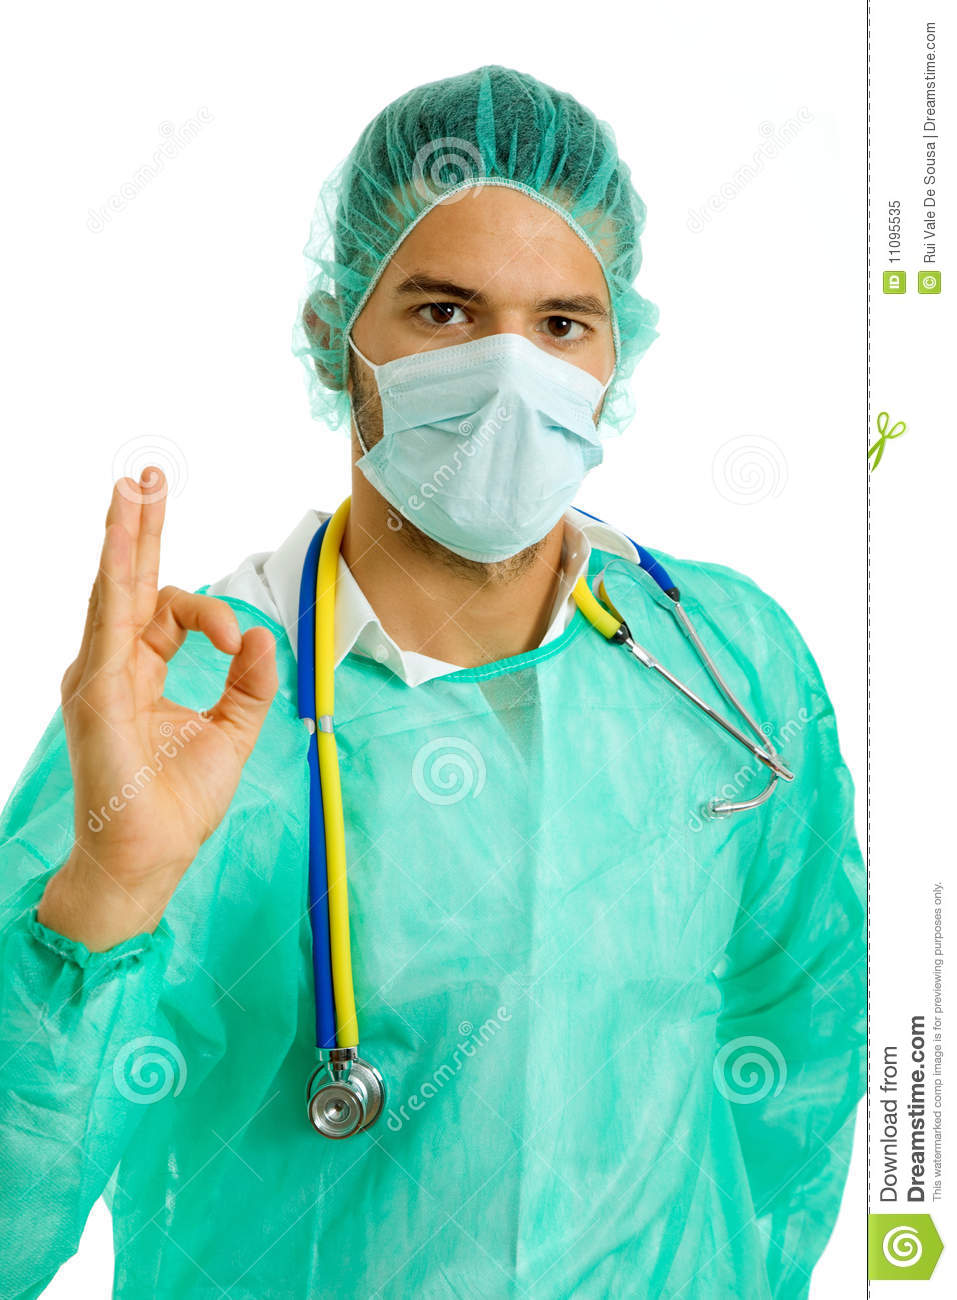mask: (360, 335, 612, 565)
